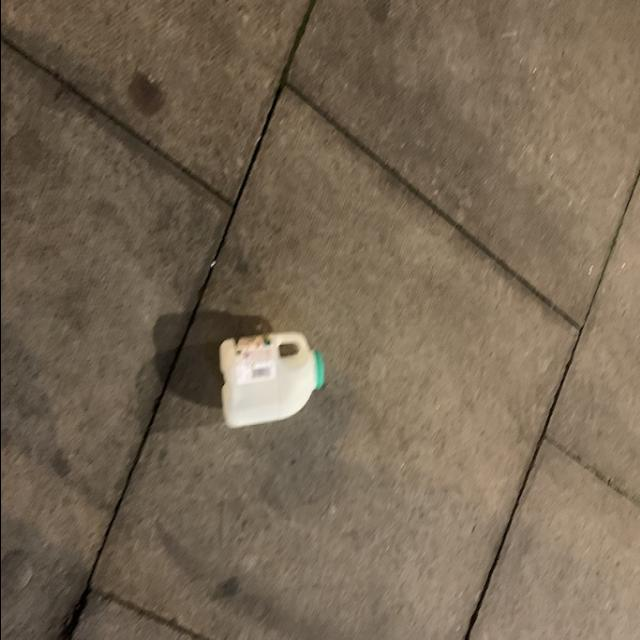litter: (208, 326, 324, 434)
